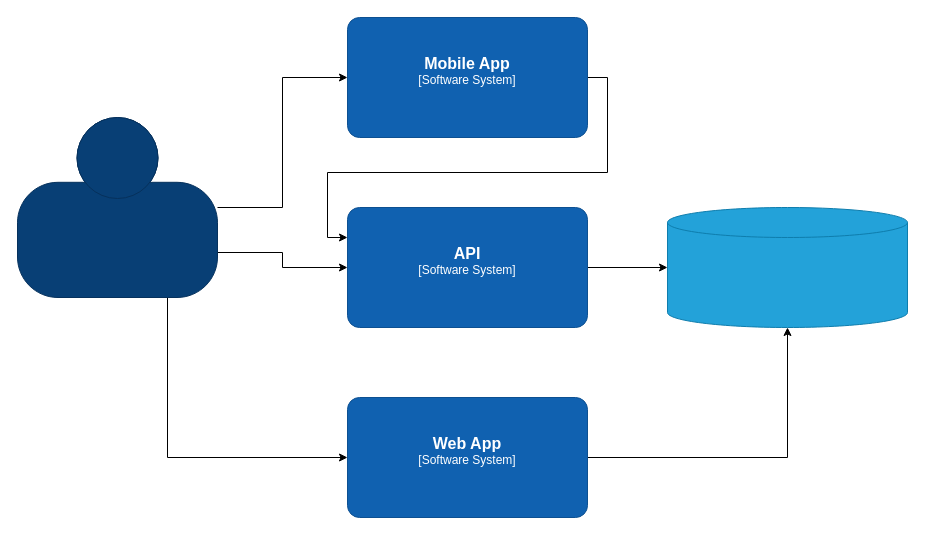
The diagram is 925 pixels wide and 535 high, and some of its shapes have lost their labels. Each missing label, with the centre of its shape:
"Cache [Container : e.g. Redis] Session store" goes at point 787,267.
"User [Person]" goes at point 117,207.
